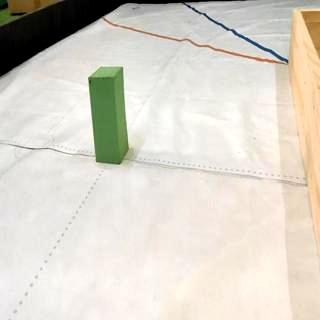greenbox: (89, 66, 128, 166)
